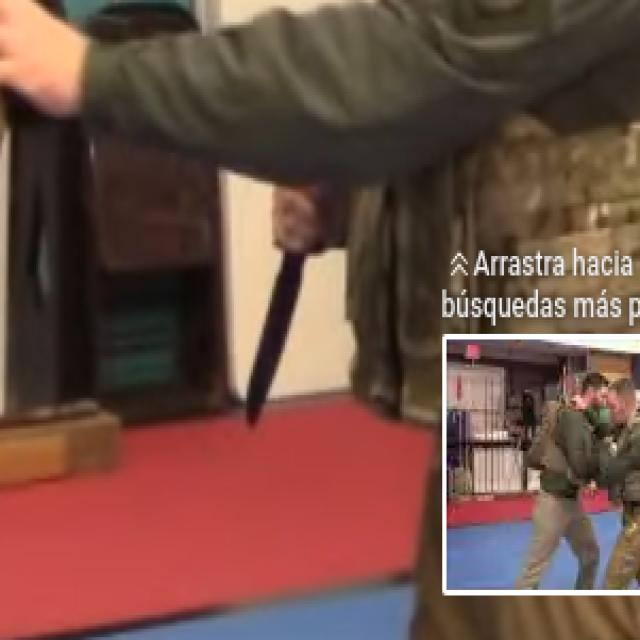Fknife: (236, 225, 308, 438)
